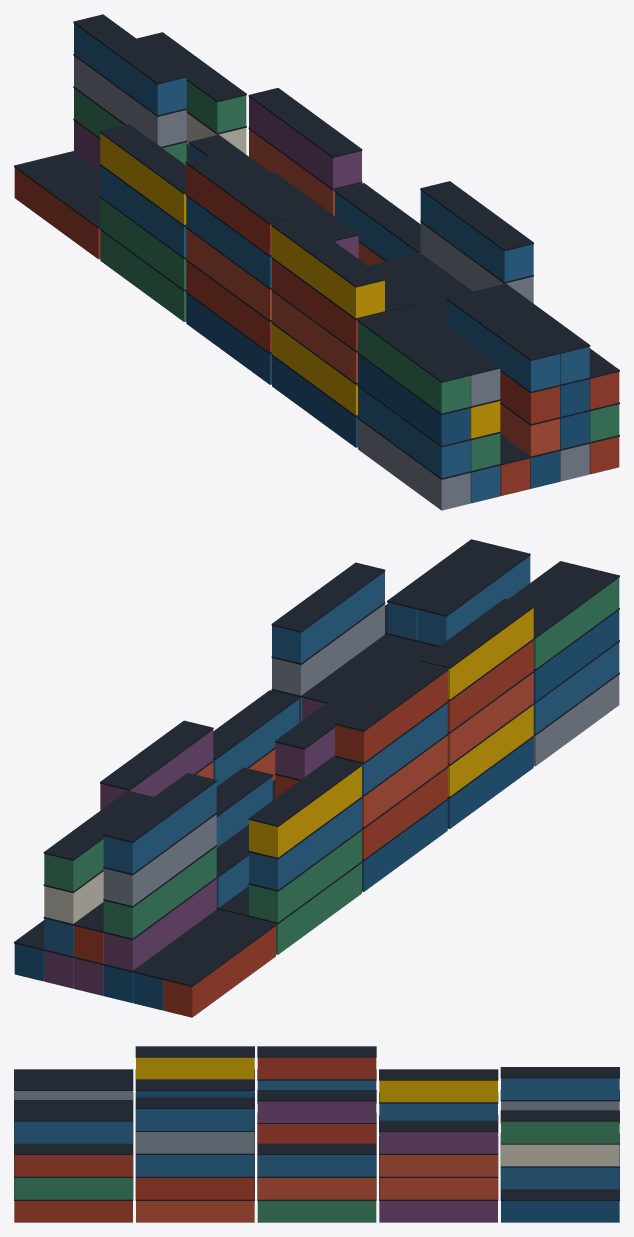
Rendered from container_block_b.glb.
The picture shows the model from 3 angles, top to bottom: view 1: azimuth 30°, elevation 25°; view 2: azimuth 150°, elevation 25°; view 3: azimuth 270°, elevation 25°; orthographic projection. The views are drawn at different scales.
Parts seen in each view (by area): view 1: block; view 2: block; view 3: block.
Part boxes in pixels (x1,y1,x2,y2): block: (14, 14, 619, 510); block: (14, 539, 619, 1017); block: (14, 1046, 619, 1222).
Bounding box in the file's own units: 15 × 13.01 × 62.25.
